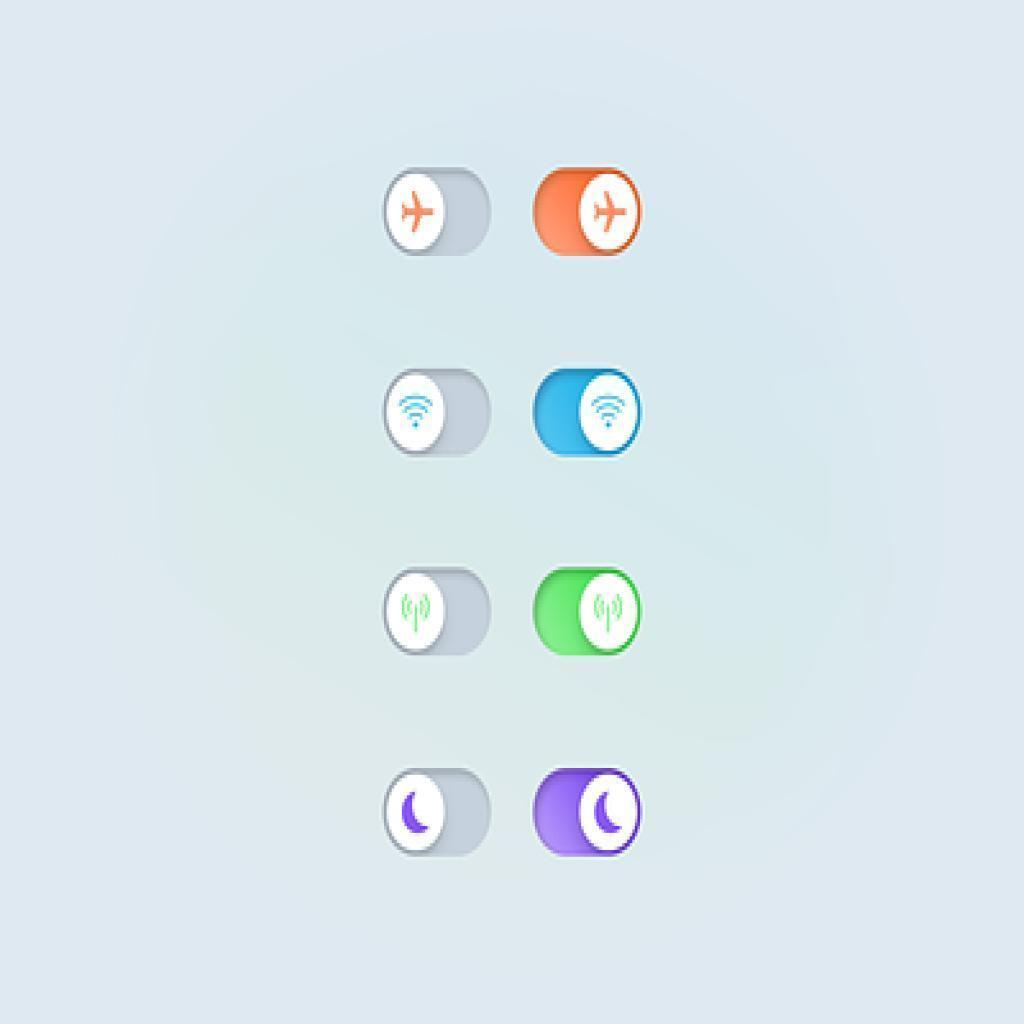switch: (527, 162, 645, 261), (532, 565, 646, 662), (529, 765, 645, 860), (379, 761, 492, 858), (531, 366, 641, 461), (381, 165, 491, 259), (385, 566, 494, 660), (381, 368, 489, 456)
